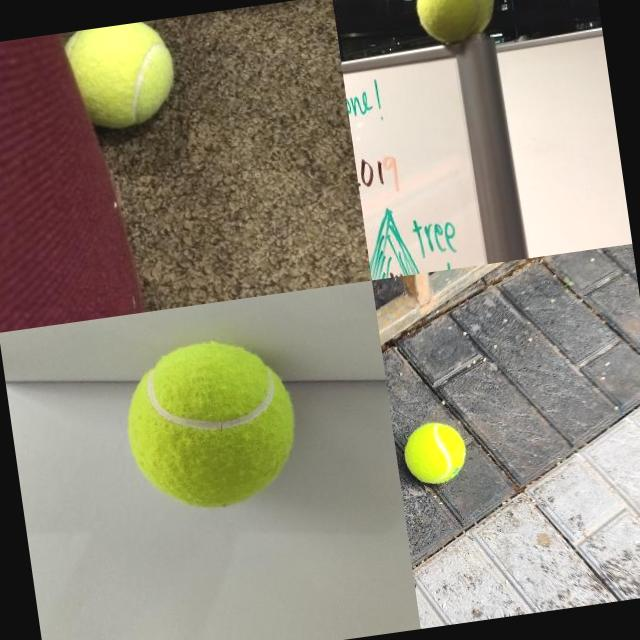Tennis Ball: (116, 332, 305, 520), (78, 18, 182, 133), (400, 418, 470, 488), (412, 0, 501, 47)
